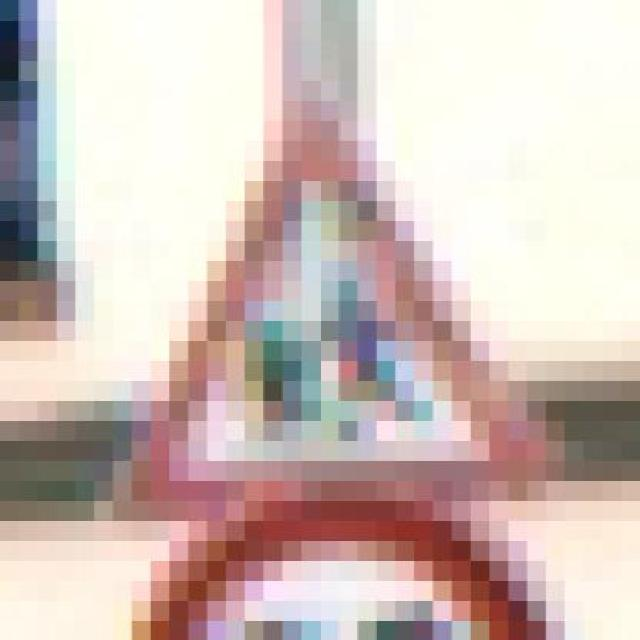Beware of children: (93, 100, 564, 520)
